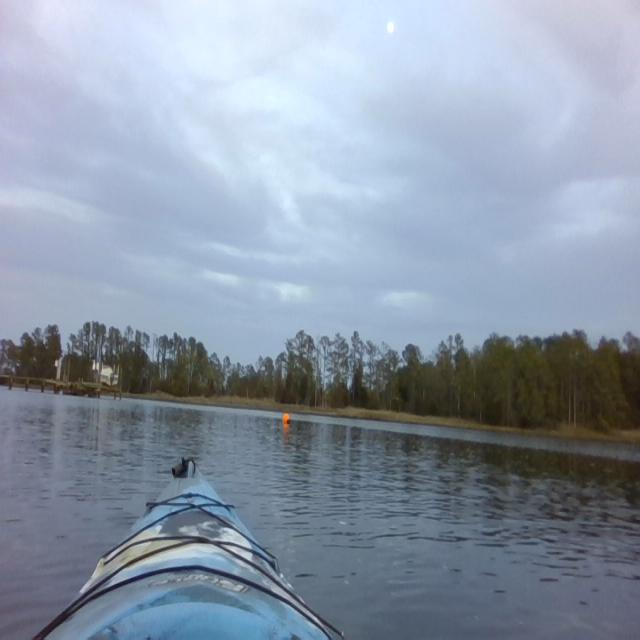Buoy: (282, 409, 292, 430)
